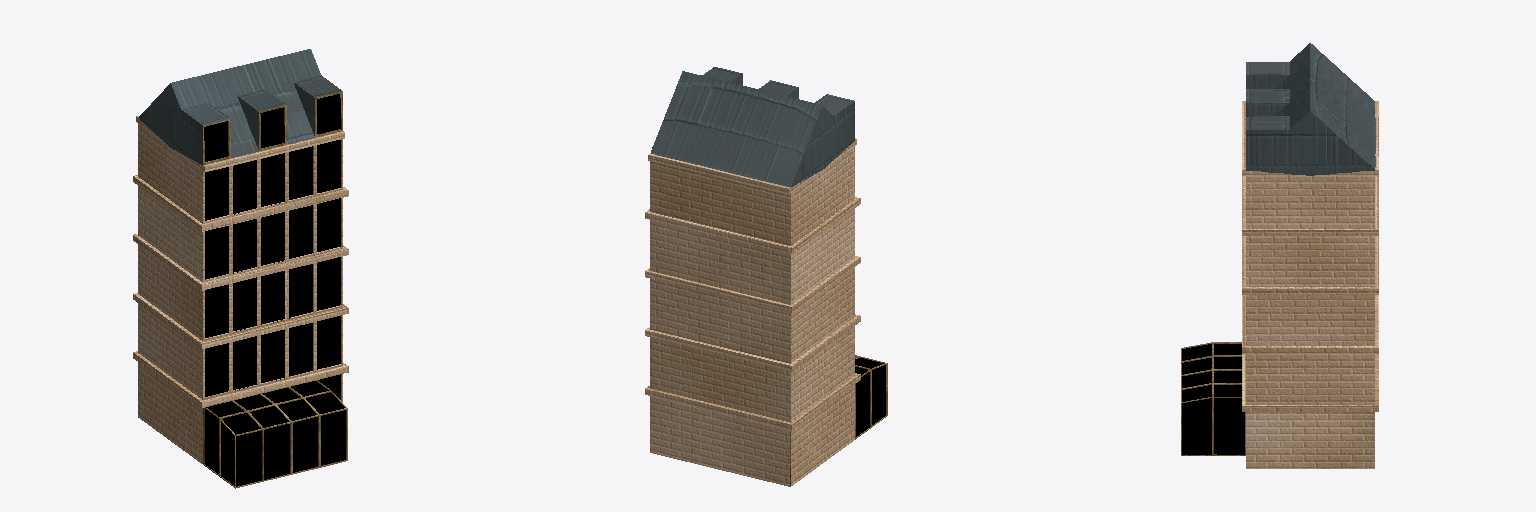
The picture shows the model from 3 angles: view 1: azimuth 30°, elevation 25°; view 2: azimuth 150°, elevation 25°; view 3: azimuth 270°, elevation 25°; orthographic projection.
Visible parts, largest first — view 1: Cube4; view 2: Cube4; view 3: Cube4.
Boxes of the visible parts, x1,y1,x2,y2 form: Cube4: [133, 49, 348, 488]; Cube4: [645, 67, 887, 486]; Cube4: [1181, 43, 1378, 468].
Bounding box in the file's own units: 5.24 × 12.2 × 6.12.
1 materials, 1 textured.